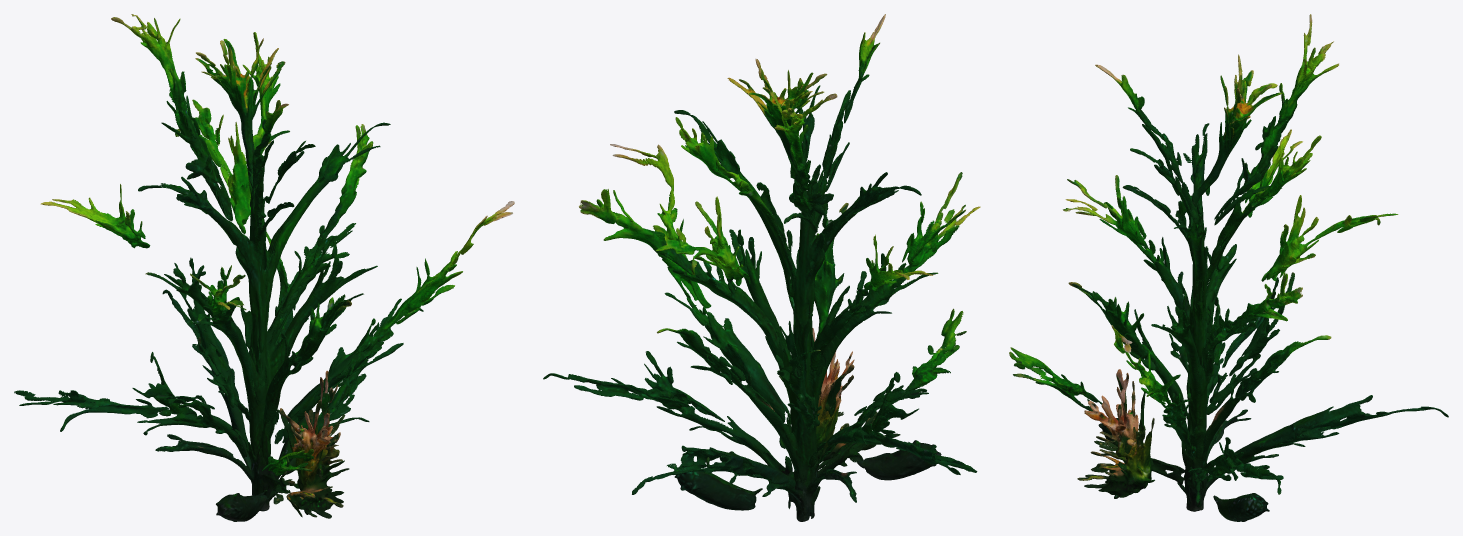
File: plant1.glb
3 views of the same model, side by side, from view 1: azimuth 30°, elevation 25°; view 2: azimuth 150°, elevation 25°; view 3: azimuth 270°, elevation 25° (orthographic). The views are drawn at different scales.
Visible parts, largest first — view 1: tripo_node_c556f420-eeaf-4072-a959-9617ea8b72c8; view 2: tripo_node_c556f420-eeaf-4072-a959-9617ea8b72c8; view 3: tripo_node_c556f420-eeaf-4072-a959-9617ea8b72c8.
Boxes of the visible parts, x1,y1,x2,y2 form: tripo_node_c556f420-eeaf-4072-a959-9617ea8b72c8: (14,14,514,521); tripo_node_c556f420-eeaf-4072-a959-9617ea8b72c8: (543,14,980,521); tripo_node_c556f420-eeaf-4072-a959-9617ea8b72c8: (1009,14,1448,521).
Bounding box in the file's own units: 0.9412 × 1 × 0.8797.
1 material, 1 textured.
